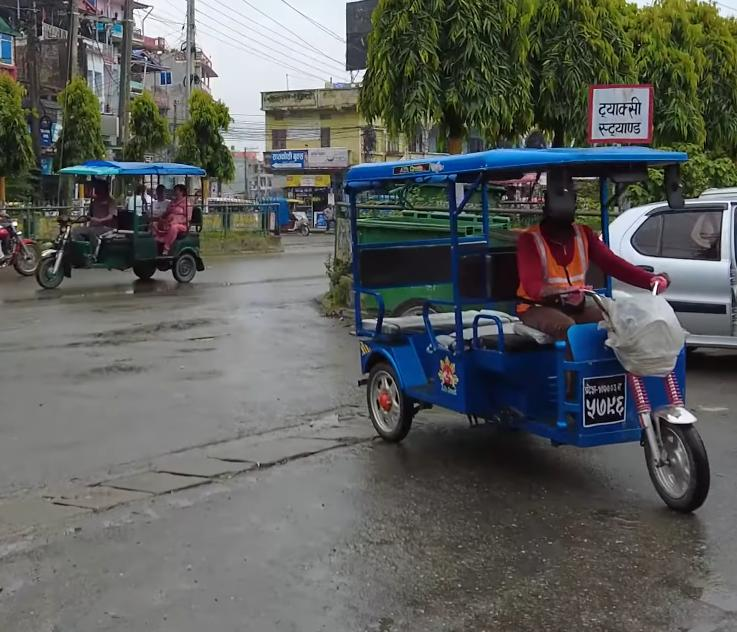e-rickshaw: (337, 139, 717, 516), (30, 147, 209, 305)
